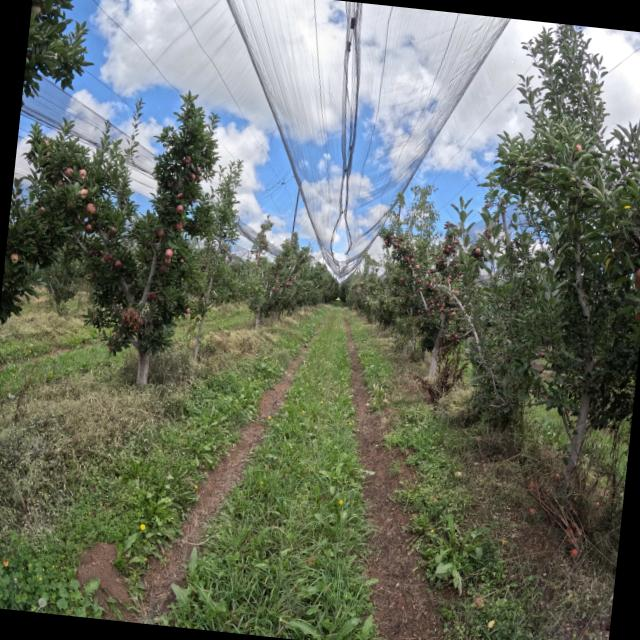-FireBlight-: (119, 307, 142, 333)
